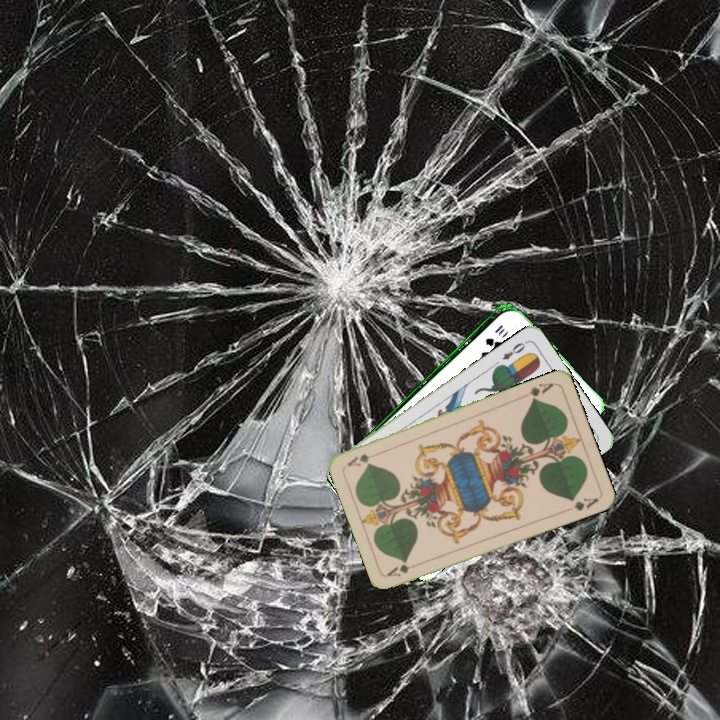EO: (498, 337, 530, 362)
G10: (481, 321, 505, 348)
GA: (518, 379, 556, 403), (383, 560, 423, 579)
